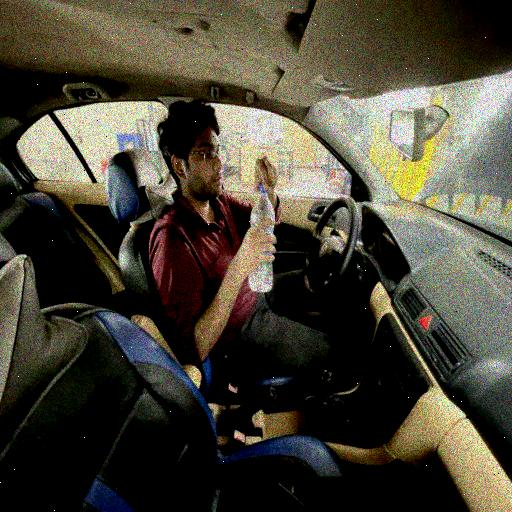Drinking: (143, 100, 308, 364)
